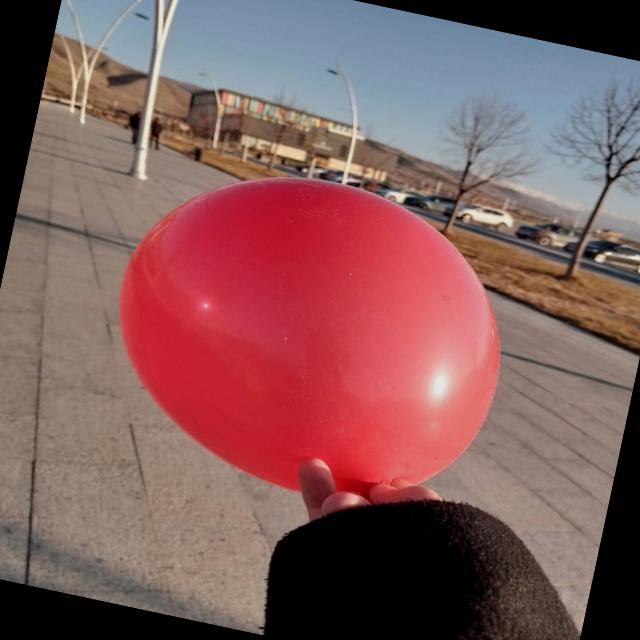balloon: (119, 177, 499, 492)
